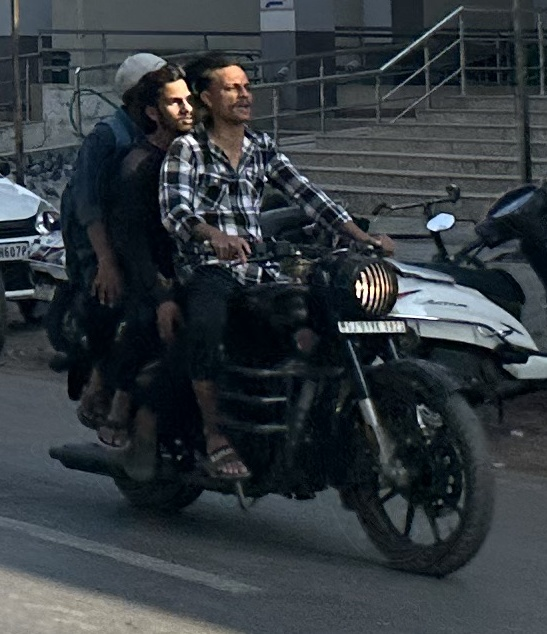BikeWithRider: (33, 43, 506, 582), (188, 48, 263, 136), (109, 48, 180, 121), (136, 65, 200, 141)
